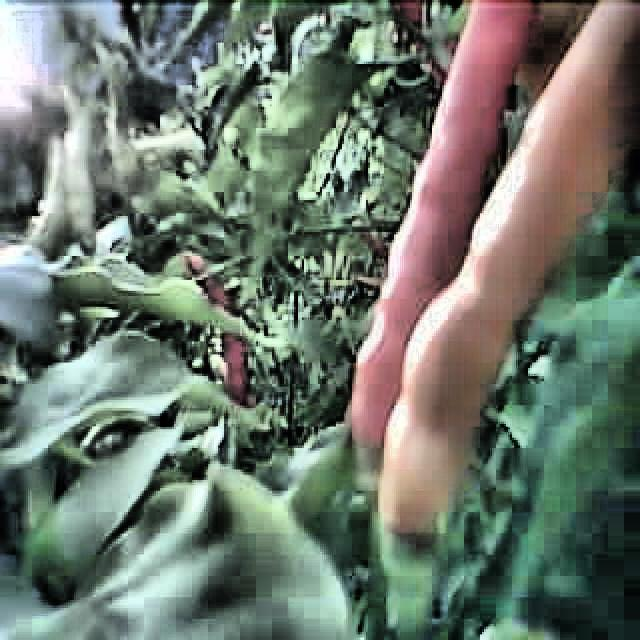Cabai: (489, 3, 638, 338), (417, 0, 493, 241), (190, 244, 252, 408)
